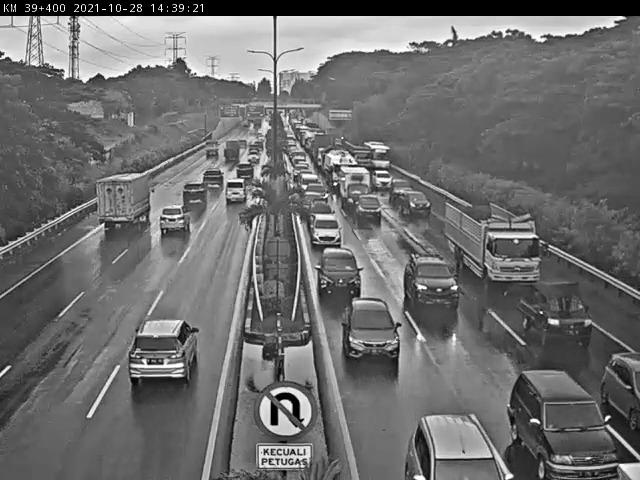car: (508, 368, 619, 477), (128, 319, 195, 385), (339, 294, 397, 356), (401, 249, 456, 304), (315, 246, 361, 294), (159, 202, 194, 232), (311, 211, 340, 245), (391, 191, 430, 215), (355, 193, 380, 216), (225, 179, 247, 203), (182, 183, 206, 203), (386, 176, 411, 195), (203, 168, 225, 189), (303, 190, 324, 210), (232, 165, 253, 184), (307, 198, 331, 214), (305, 183, 328, 199)
mid truck: (443, 199, 538, 286), (98, 173, 151, 227)
small truck: (517, 283, 592, 343), (340, 168, 370, 203)
